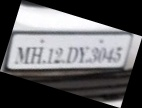character: (12, 46, 30, 65), (29, 45, 44, 65), (65, 46, 78, 65), (87, 46, 99, 64), (78, 46, 89, 65), (112, 46, 123, 65), (97, 47, 108, 65), (53, 48, 63, 65), (46, 48, 53, 64)
